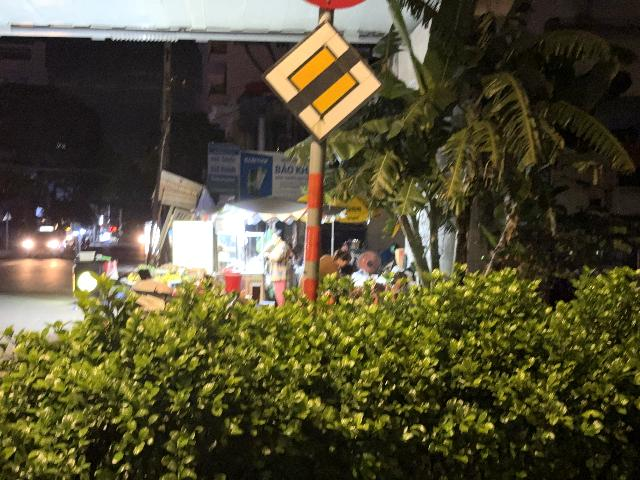het-duong-uu-tien: (261, 19, 385, 144)
